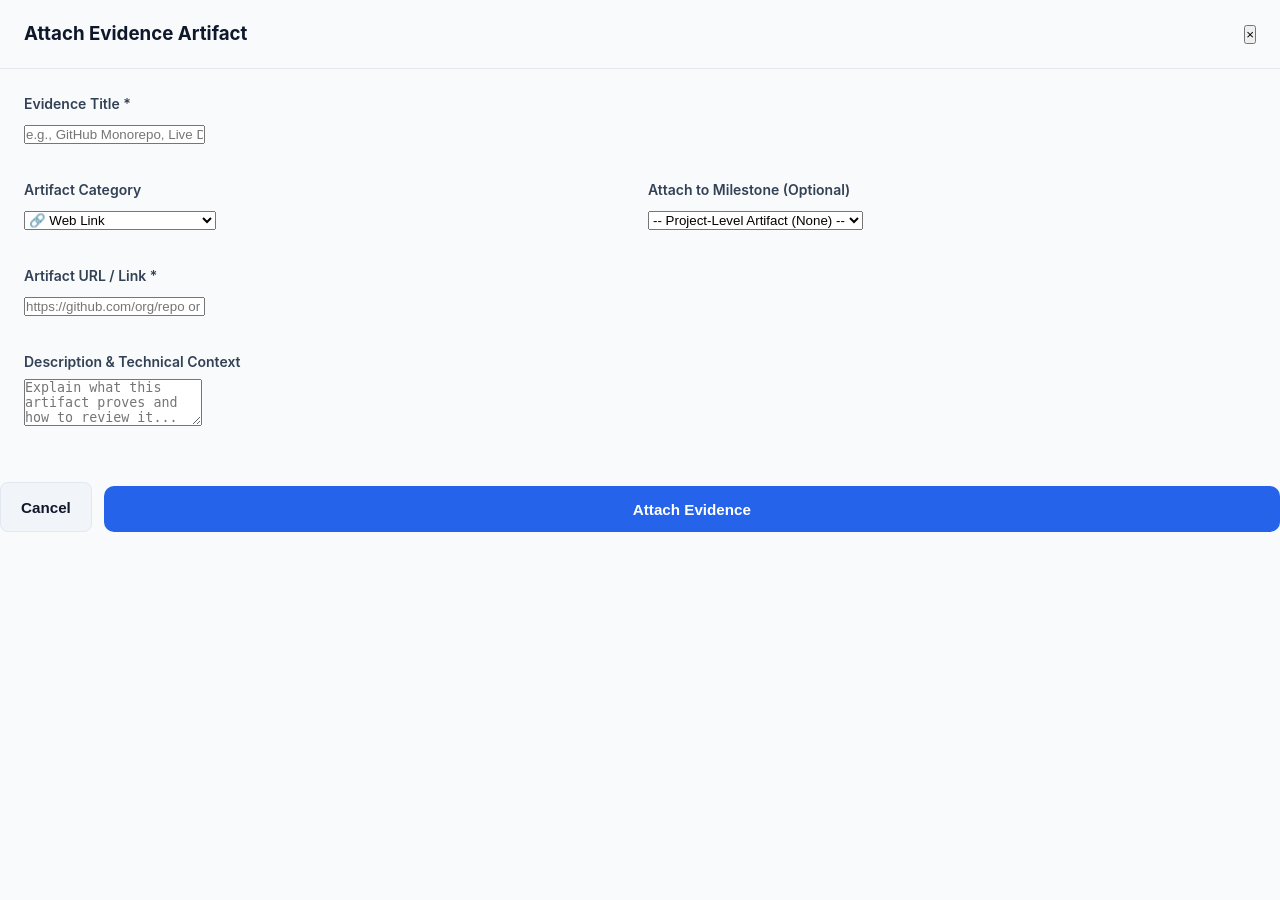
it: ProjectEvidenceModal Component › validates required fields and shows error on invalid input
Enter single char title
Type "A" into the field labelled "Evidence Title *" at (114, 135), box 24,125 -> 205,144
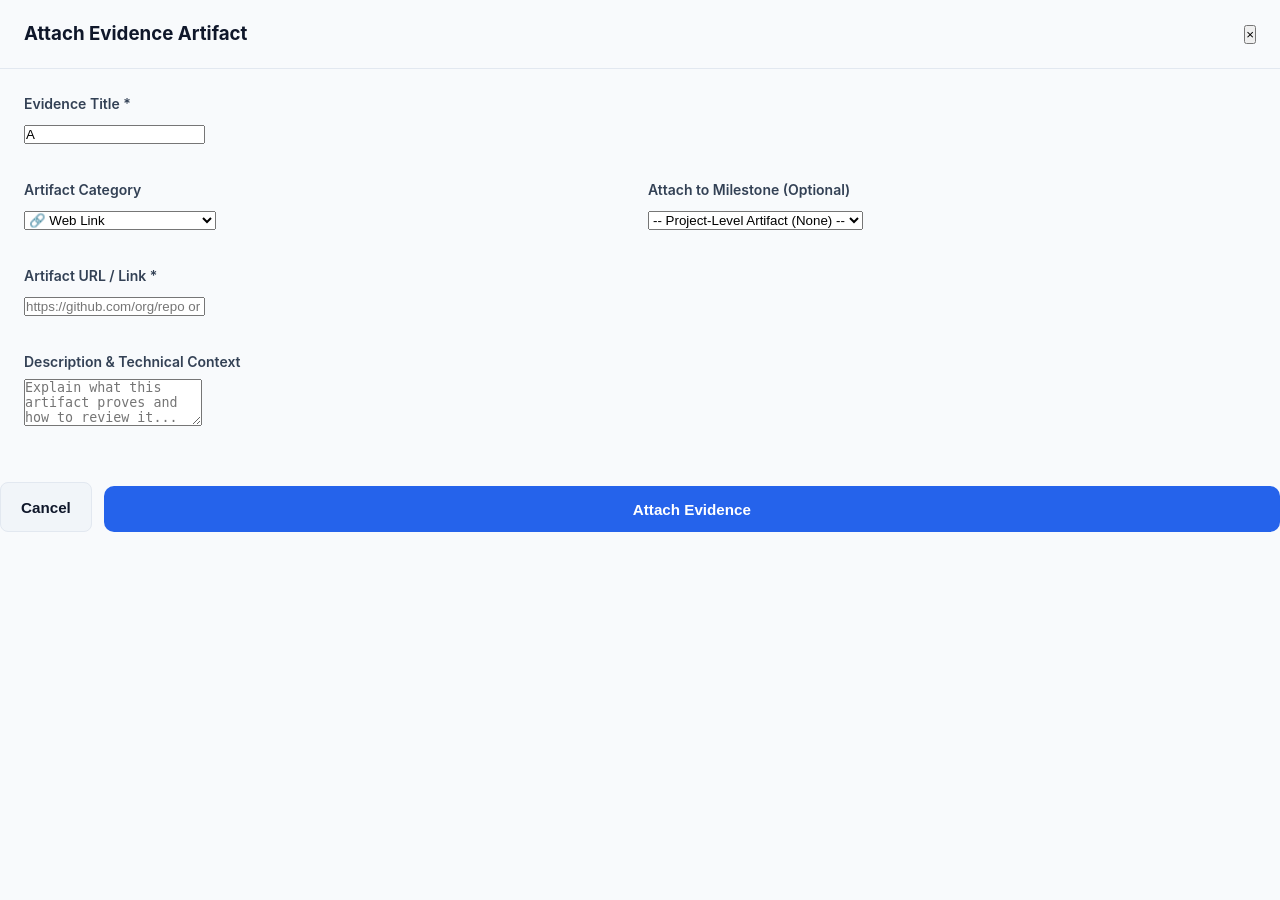
Type "https://example.com" into the field labelled "Artifact URL / Link *" at (114, 307), box 24,297 -> 205,316
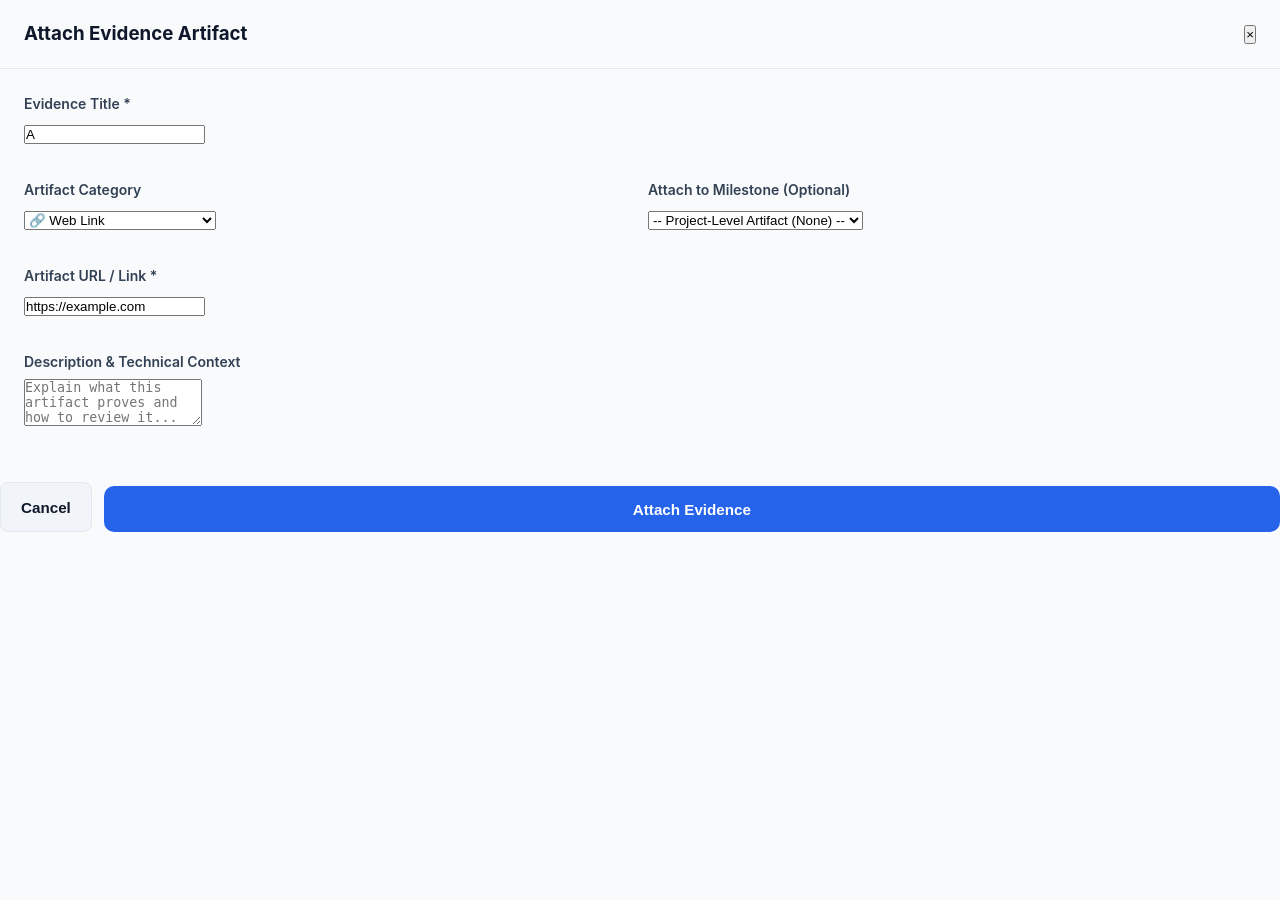
Click the button "Attach Evidence" at (692, 509), box 104,486 -> 1279,532
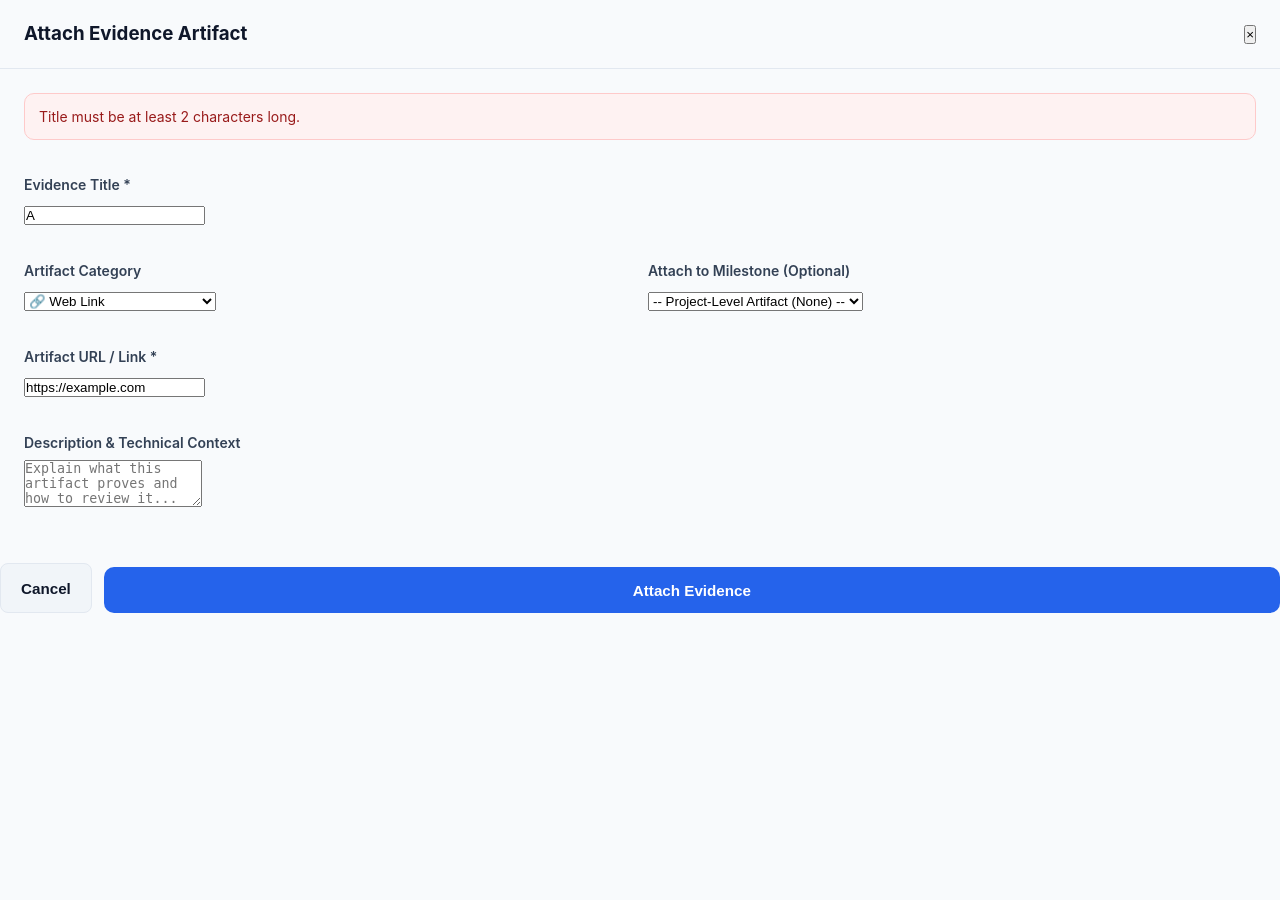
Check: the text "Title must be at least 2 characters long." is shown, box 24,93 -> 1256,140
Invalid URL format (missing scheme)
Replace the text in the field labelled "Evidence Title *" with "Valid Title" at (114, 216), box 24,206 -> 205,225
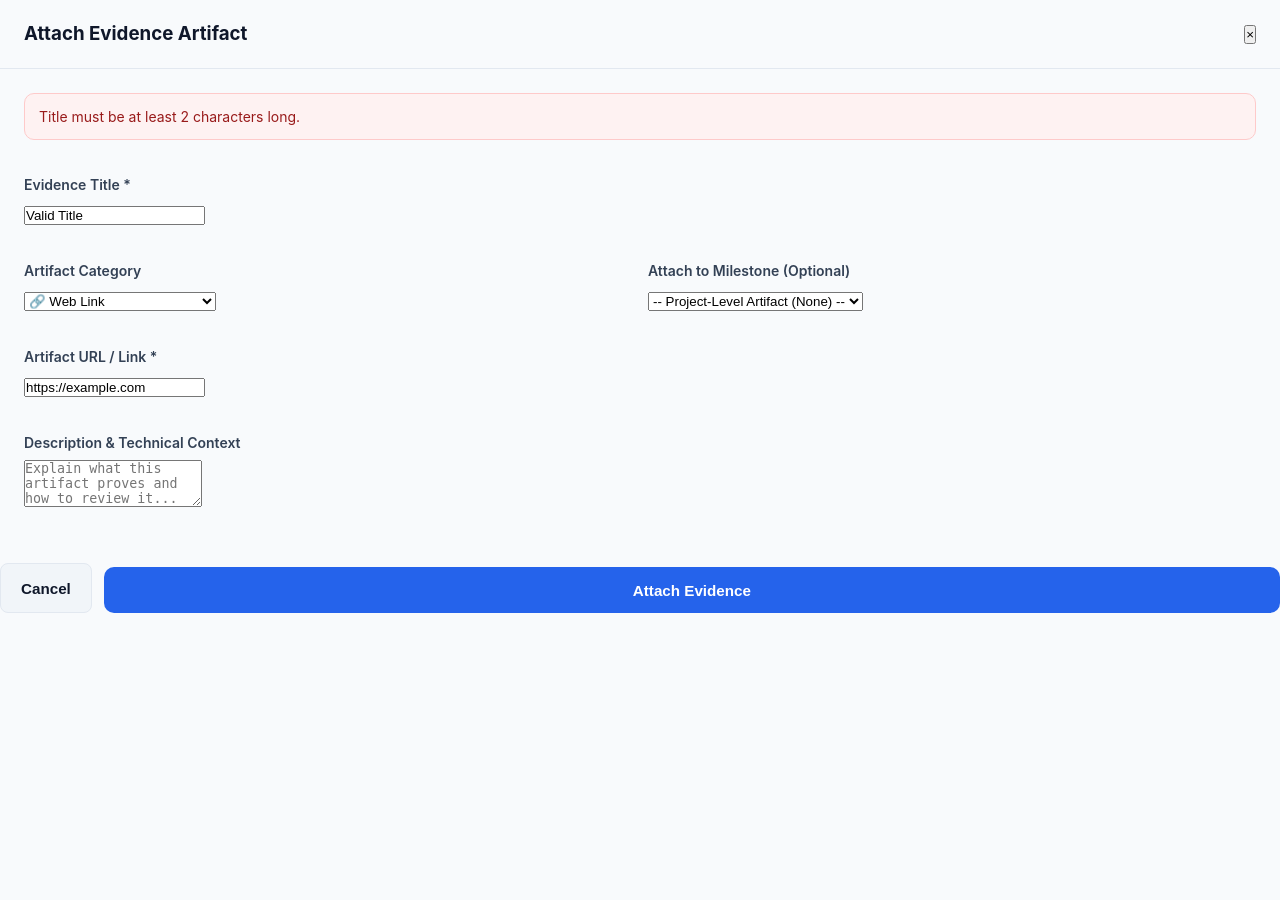
Replace the text in the field labelled "Artifact URL / Link *" with "not-a-valid-url" at (114, 388), box 24,378 -> 205,397
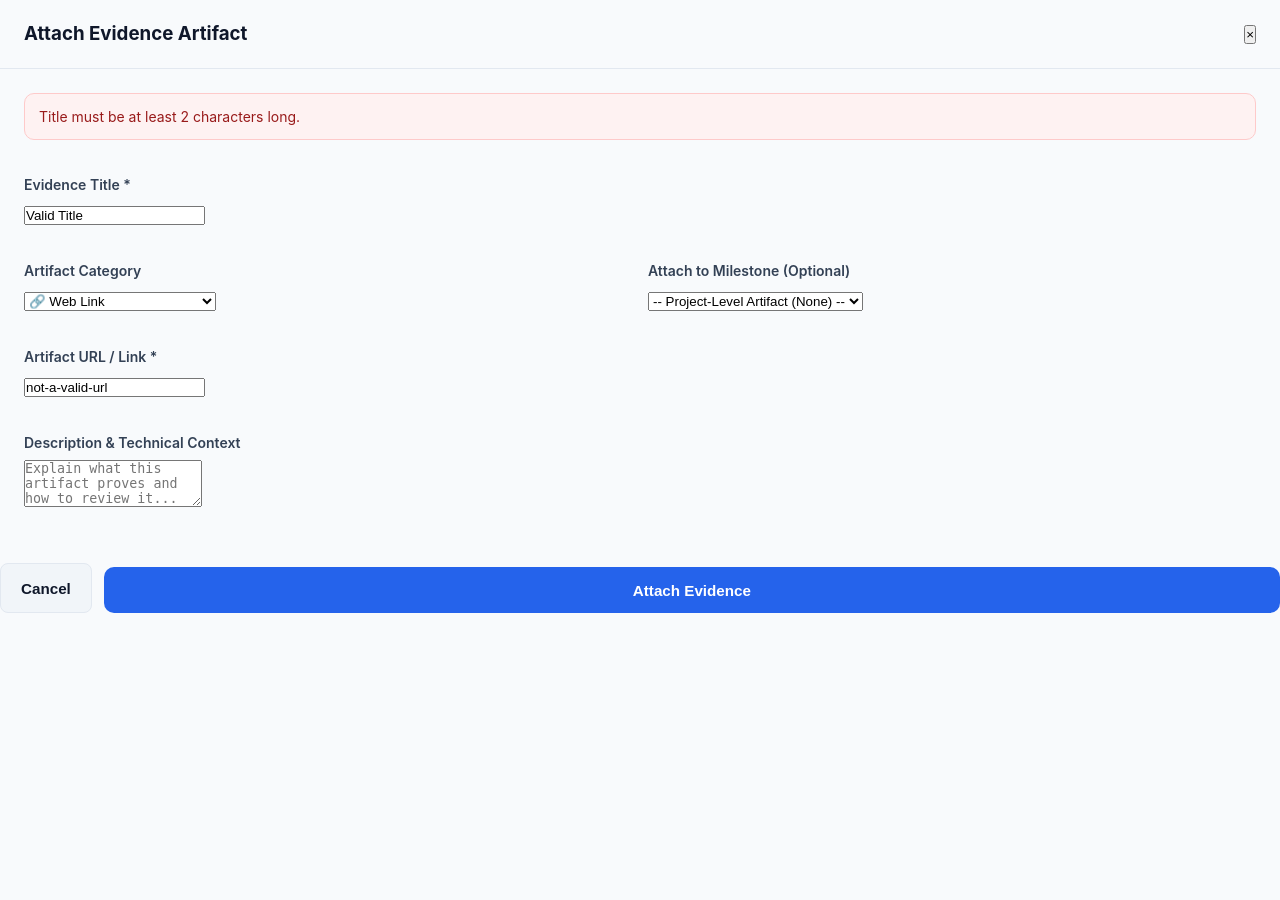
Click the button "Attach Evidence" at (692, 590), box 104,567 -> 1279,613
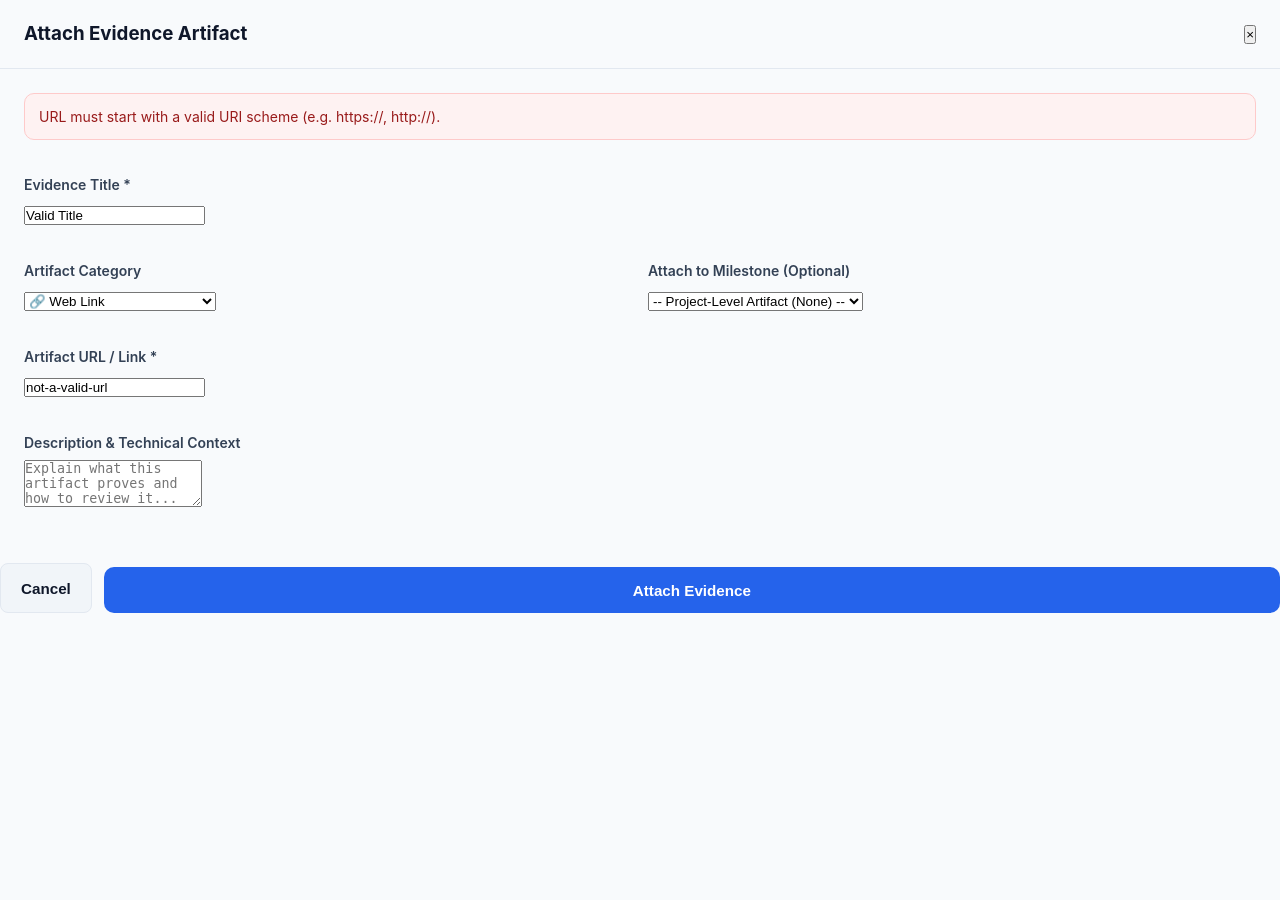
Check: the text "URL must start with a valid URI scheme (e.g. https://, http://)." is shown, box 24,93 -> 1256,140
